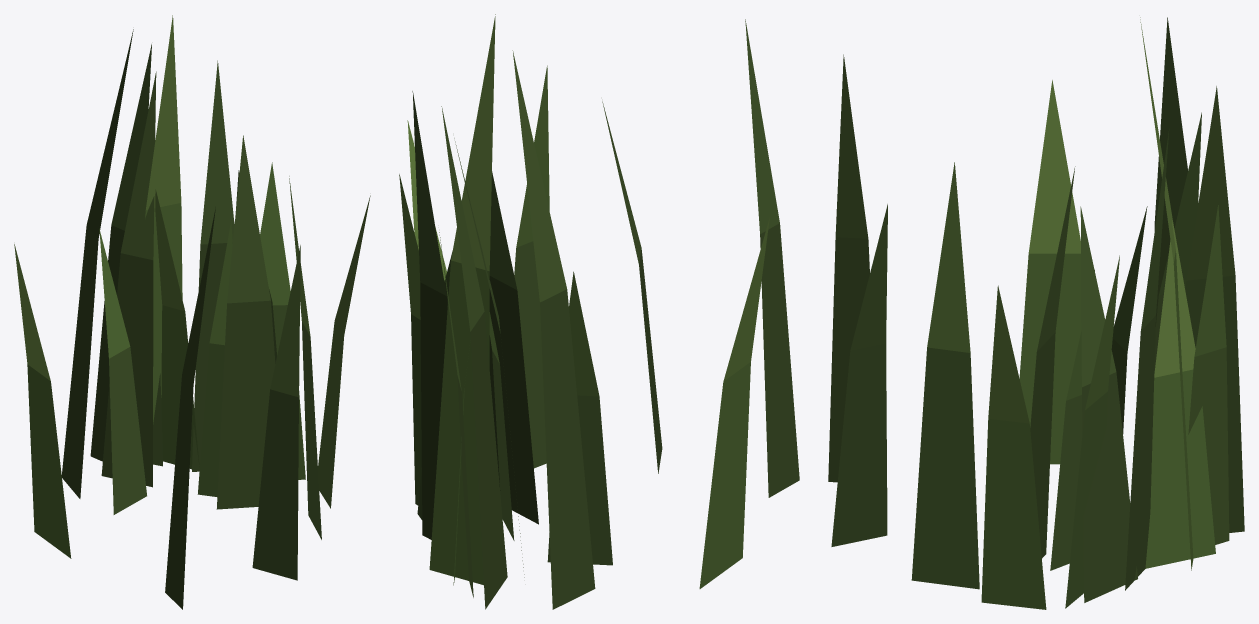
Rendered from grass-clump-a.glb.
3 renders of one model, left to right at view 1: azimuth 30°, elevation 25°; view 2: azimuth 150°, elevation 25°; view 3: azimuth 270°, elevation 25°, orthographic. The views are drawn at different scales.
Visible parts, largest first — view 1: Grass_Clump_A; view 2: Grass_Clump_A; view 3: Grass_Clump_A.
Boxes of the visible parts, box(x1,y1,x2,y2) form: Grass_Clump_A: box(14, 15, 370, 609); Grass_Clump_A: box(399, 14, 799, 609); Grass_Clump_A: box(828, 17, 1244, 609).
Size of the model in its own units: 0.2926 by 0.3917 by 0.2746.
1 material, 1 textured.
